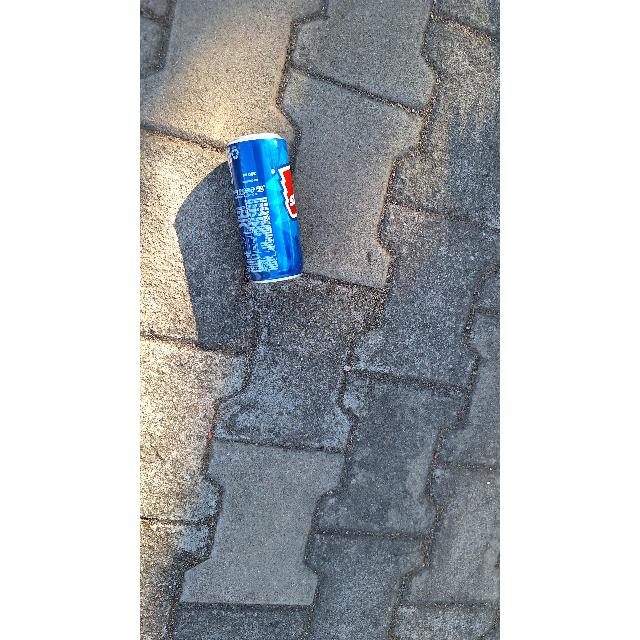Thums Up: (225, 126, 305, 288)
